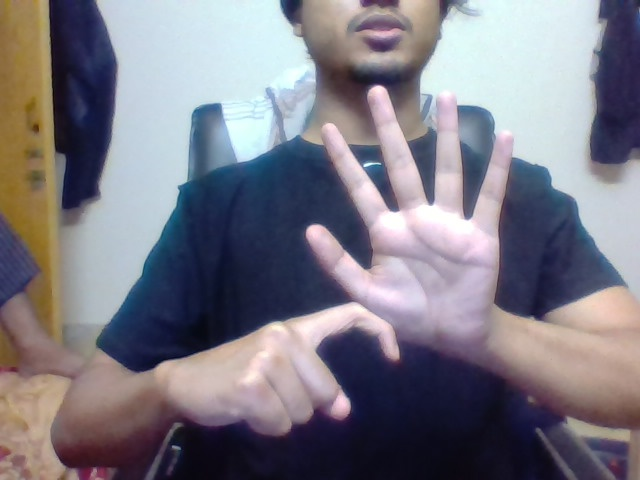R: (274, 297, 402, 422)
